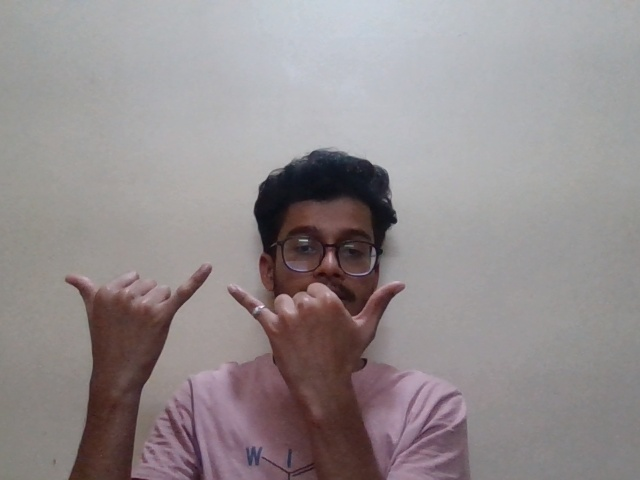today: (60, 240, 409, 374)
